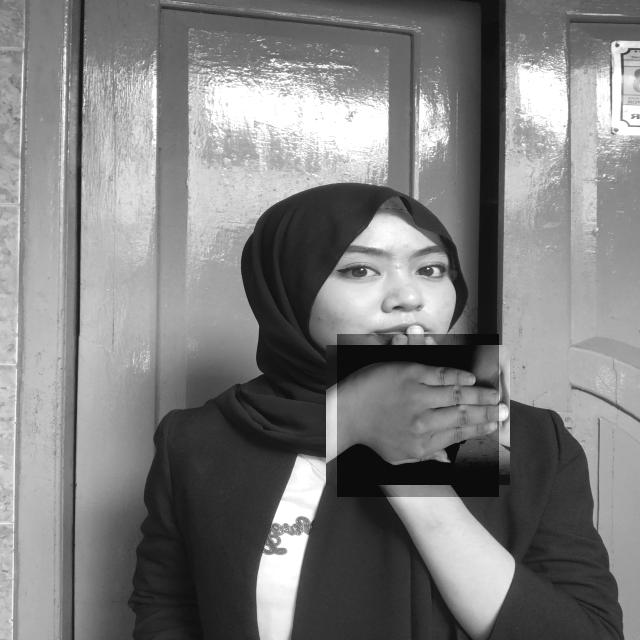ganteng: (337, 334, 499, 497)
